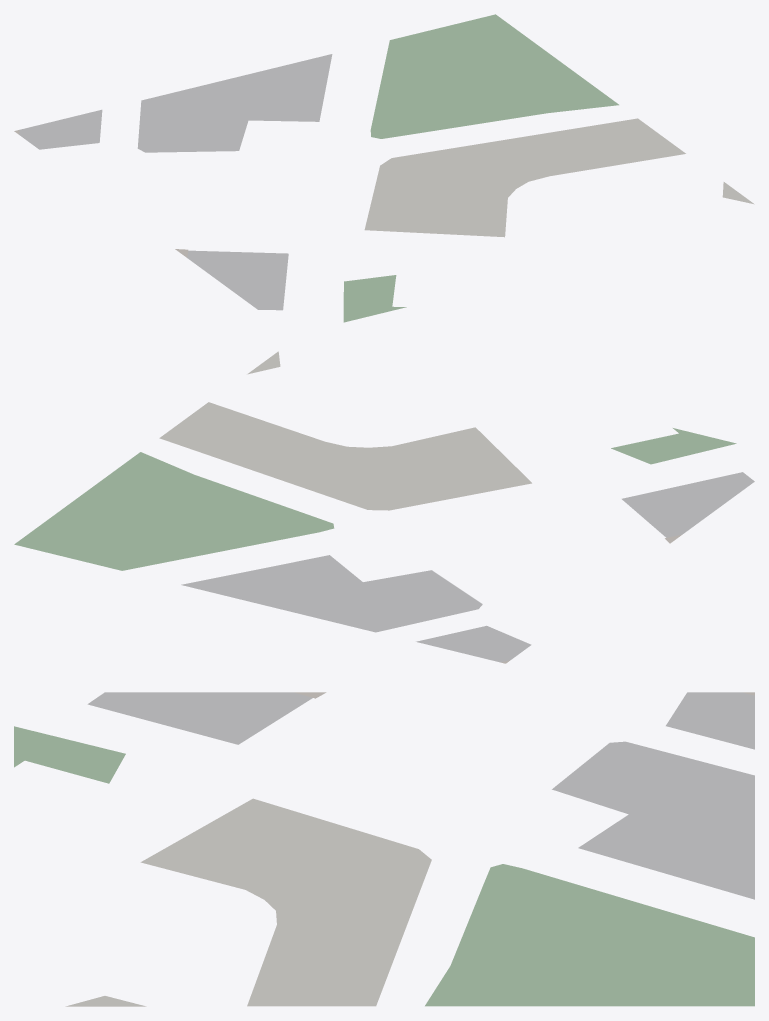
File: 109_114_mid.glb
3 renders of one model, top to bottom at view 1: azimuth 30°, elevation 25°; view 2: azimuth 150°, elevation 25°; view 3: azimuth 270°, elevation 25°, orthographic. The views are drawn at different scales.
Bounding box in the file's own units: 500 × 1.06 × 500.
